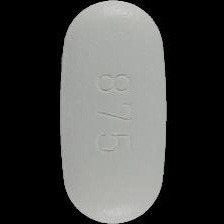54868-4543: (0, 0, 224, 224)
